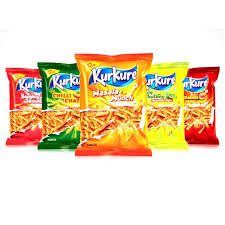kurkure: (92, 65, 138, 85), (141, 74, 182, 90), (187, 77, 209, 93), (53, 74, 80, 86), (20, 78, 41, 91)
plastic: (9, 66, 215, 142)
wrapper: (87, 61, 152, 141), (10, 72, 50, 138), (182, 68, 217, 142), (154, 71, 188, 145), (52, 71, 84, 135)
